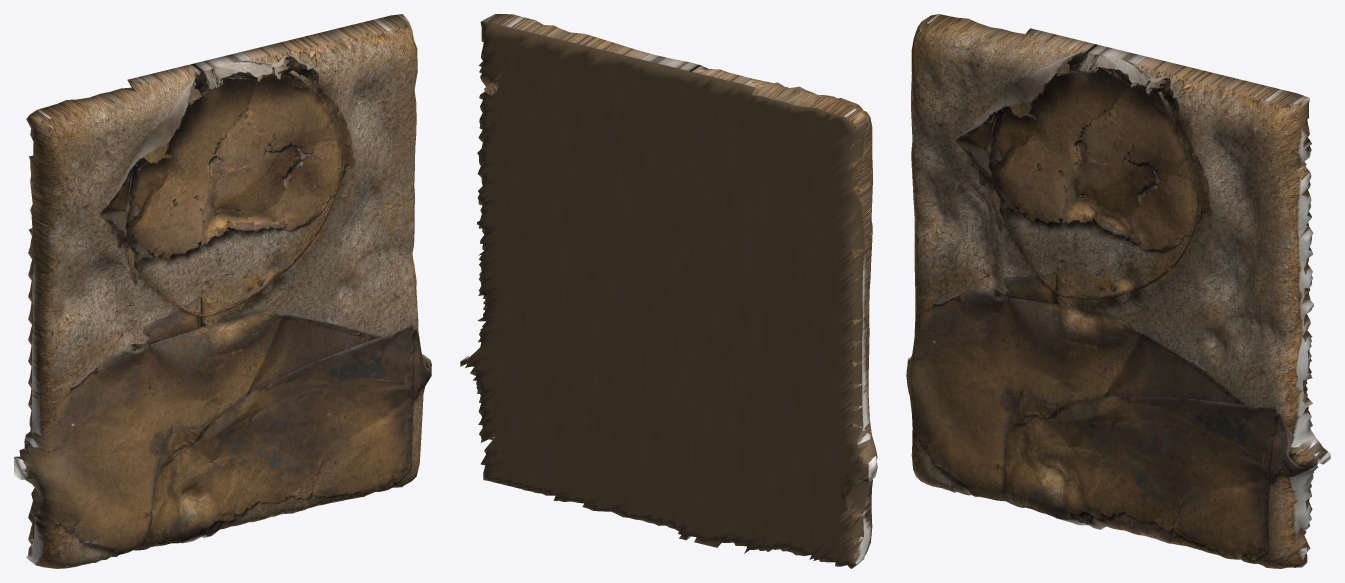
File: hy3d-esc-022.glb
3 renders of one model, left to right at view 1: azimuth 30°, elevation 25°; view 2: azimuth 150°, elevation 25°; view 3: azimuth 330°, elevation 25°, orthographic.
Parts seen in each view (by area): view 1: world; view 2: world; view 3: world.
Boxes of the visible parts, x1,y1,x2,y2 form: world: (14,14,431,568); world: (460,14,877,568); world: (906,14,1330,568).
Bounding box in the file's own units: 0.564 × 0.62 × 0.0636.
1 material, 1 textured.
